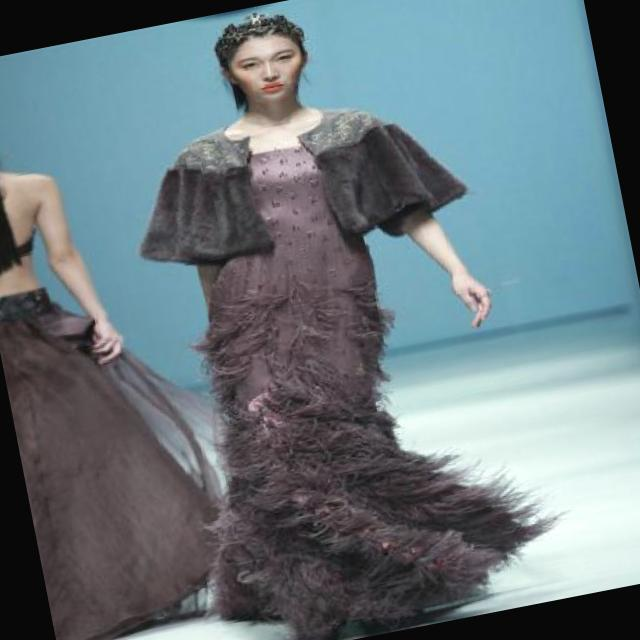Person: (102, 0, 561, 640)
